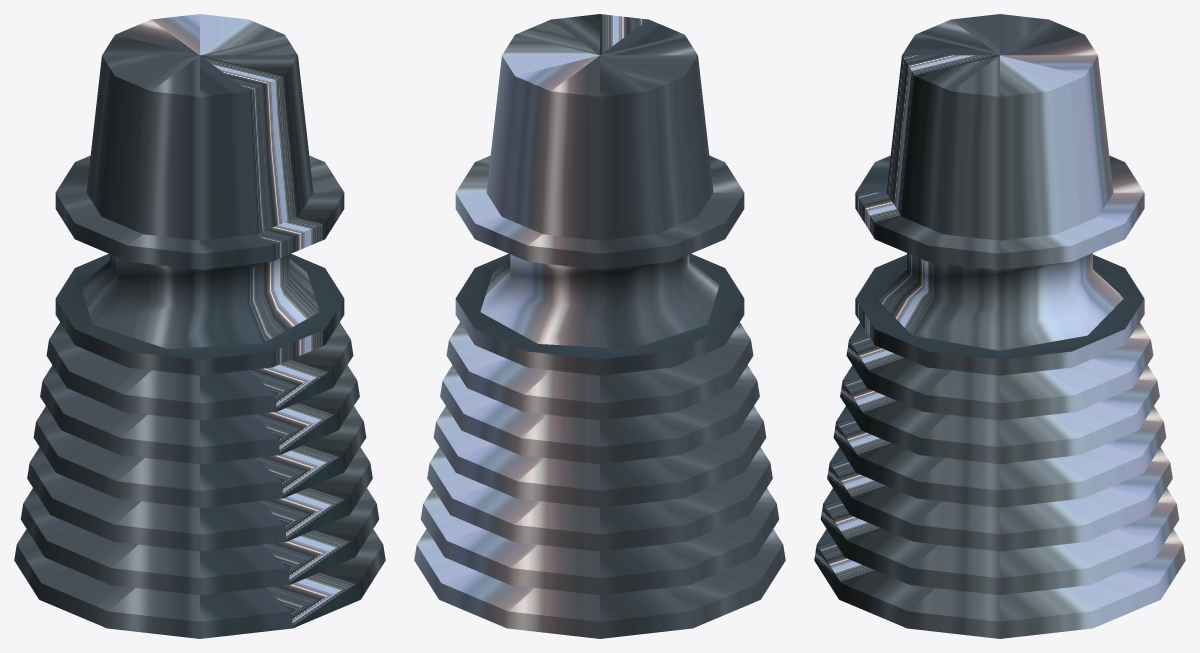
File: PegPlasticT25.fbx
The picture shows the model from 3 angles, left to right: view 1: azimuth 30°, elevation 25°; view 2: azimuth 150°, elevation 25°; view 3: azimuth 270°, elevation 25°; orthographic projection.
Parts seen in each view (by area): view 1: PegPlasticT25; view 2: PegPlasticT25; view 3: PegPlasticT25.
Part boxes in pixels (x1,y1,x2,y2): PegPlasticT25: (14,14,385,638); PegPlasticT25: (414,14,785,638); PegPlasticT25: (814,14,1185,638).
Bounding box in the file's own units: 1.85 × 2.77 × 1.85.
Materials: 1 (1 with a texture image).
